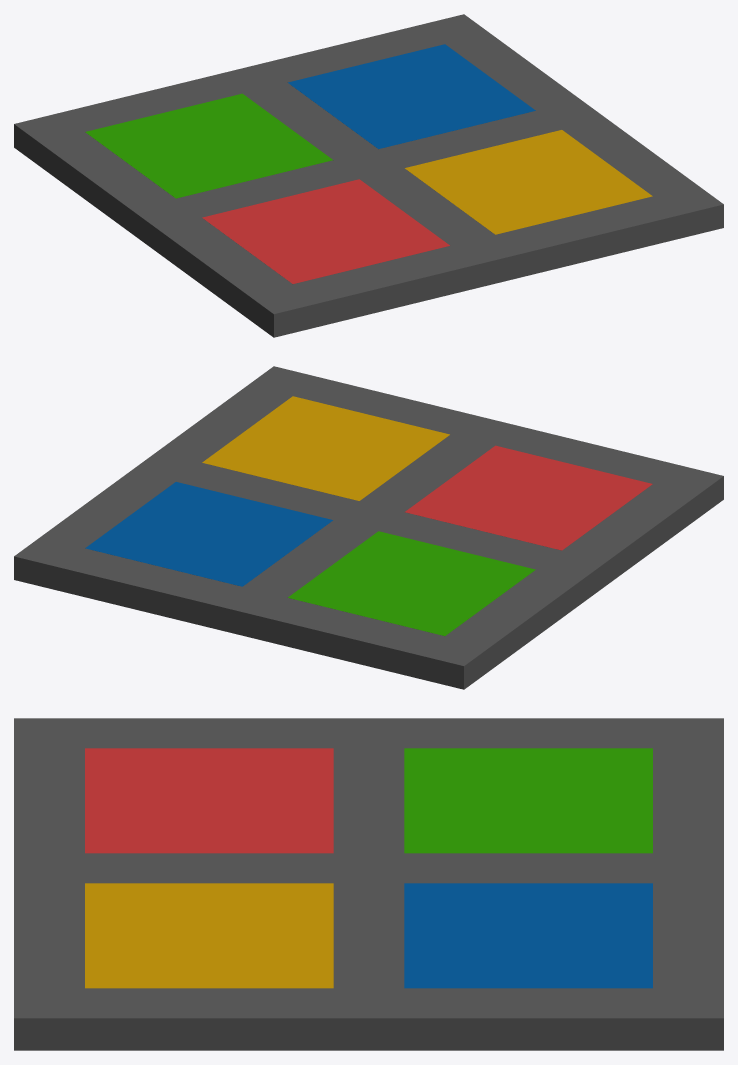
The model's file is four_squares.obj.
The picture shows the model from 3 angles, top to bottom: view 1: azimuth 30°, elevation 25°; view 2: azimuth 150°, elevation 25°; view 3: azimuth 270°, elevation 25°; orthographic projection. The views are drawn at different scales.
Parts seen in each view (by area): view 1: Box, Box001, Box004, Box003, Box002; view 2: Box, Box003, Box002, Box001, Box004; view 3: Box, Box004, Box003, Box002, Box001.
Part boxes in pixels (x1=…): Box: x1=14, y1=14, x2=723, y2=337; Box001: x1=85, y1=93, x2=333, y2=198; Box004: x1=405, y1=130, x2=652, y2=234; Box003: x1=202, y1=179, x2=449, y2=283; Box002: x1=288, y1=44, x2=535, y2=148; Box: x1=14, y1=366, x2=723, y2=689; Box003: x1=404, y1=445, x2=652, y2=550; Box002: x1=85, y1=482, x2=332, y2=586; Box001: x1=288, y1=531, x2=535, y2=635; Box004: x1=202, y1=396, x2=449, y2=500; Box: x1=14, y1=718, x2=723, y2=1050; Box004: x1=85, y1=883, x2=333, y2=988; Box003: x1=85, y1=748, x2=333, y2=853; Box002: x1=404, y1=883, x2=652, y2=988; Box001: x1=404, y1=748, x2=652, y2=853.
Bounding box in the file's own units: 1 × 0.0501 × 1.
